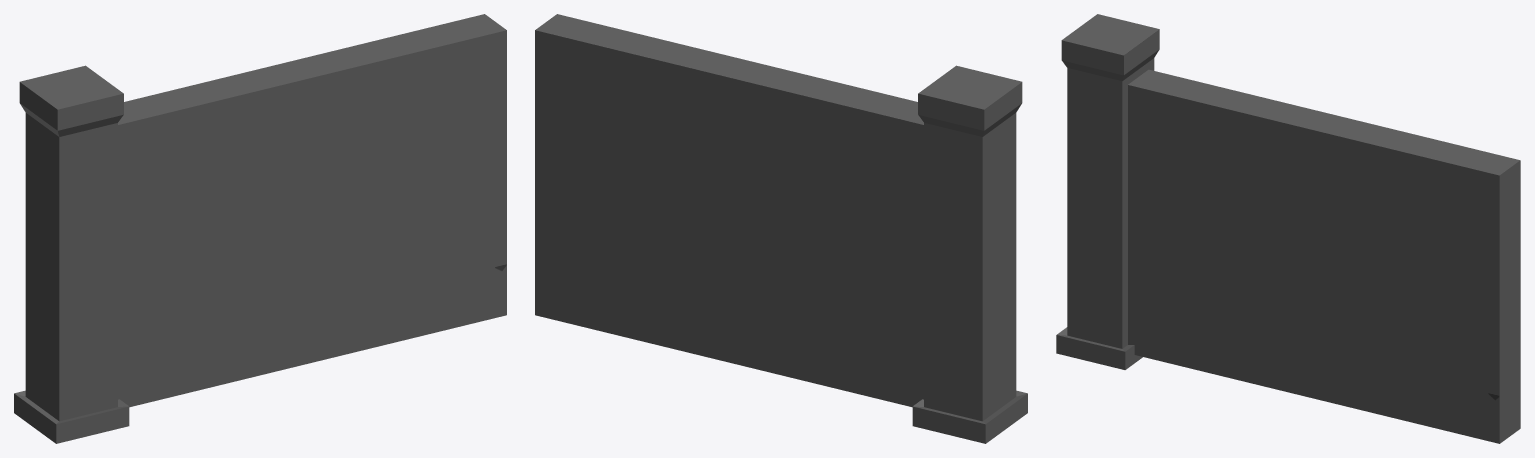
The model's file is WALL.fbx.
3 renders of one model, left to right at view 1: azimuth 30°, elevation 25°; view 2: azimuth 150°, elevation 25°; view 3: azimuth 330°, elevation 25°, orthographic. The views are drawn at different scales.
Visible parts, largest first — view 1: Cube, Cube.002; view 2: Cube, Cube.002; view 3: Cube, Cube.002.
Part boxes in pixels (<box>): Cube: <box>118,14,506,407</box>; Cube.002: <box>14,65,129,443</box>; Cube: <box>535,14,923,407</box>; Cube.002: <box>912,65,1027,443</box>; Cube: <box>1128,69,1520,443</box>; Cube.002: <box>1056,14,1159,369</box>.
Bounding box in the file's own units: 7552 × 5199 × 1199.
1 material, 1 textured.
